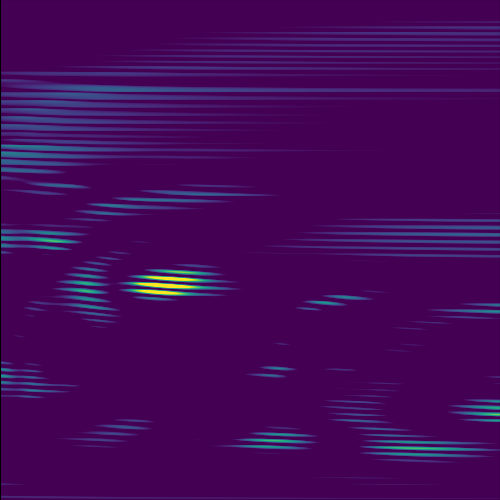semblance: (122, 260, 232, 304)
